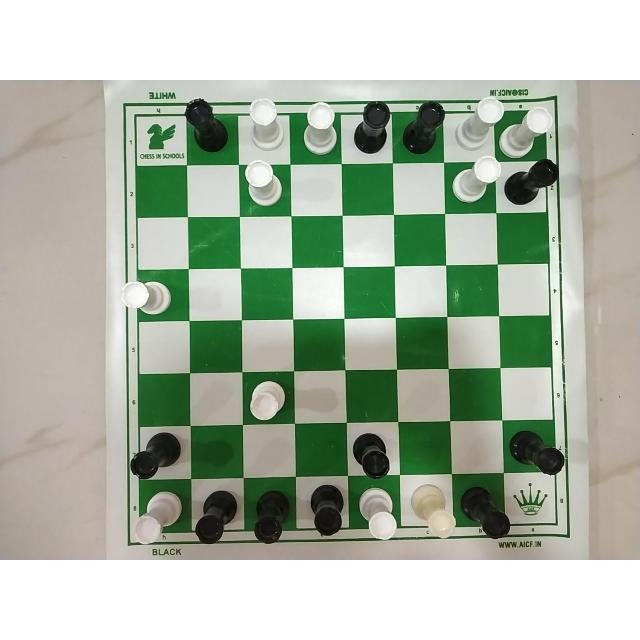black-rook: (455, 485, 516, 541), (507, 425, 567, 479), (126, 432, 181, 482), (503, 158, 559, 207), (180, 99, 228, 155), (189, 488, 237, 544), (247, 487, 288, 547), (304, 483, 346, 541), (348, 427, 392, 481), (349, 100, 391, 156), (402, 99, 444, 152)
white-rook: (408, 481, 456, 541), (132, 491, 184, 545), (447, 155, 500, 207), (455, 94, 505, 148), (240, 97, 286, 155), (503, 104, 555, 152), (115, 278, 173, 320), (241, 161, 287, 213), (355, 487, 399, 541), (299, 101, 338, 159), (243, 376, 289, 424)
